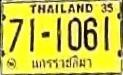0: (67, 16, 81, 50)
1: (56, 18, 61, 52), (29, 18, 34, 51), (104, 16, 108, 50)
6: (83, 16, 97, 50)
7: (8, 18, 22, 52)
NMA: (28, 53, 95, 71)
